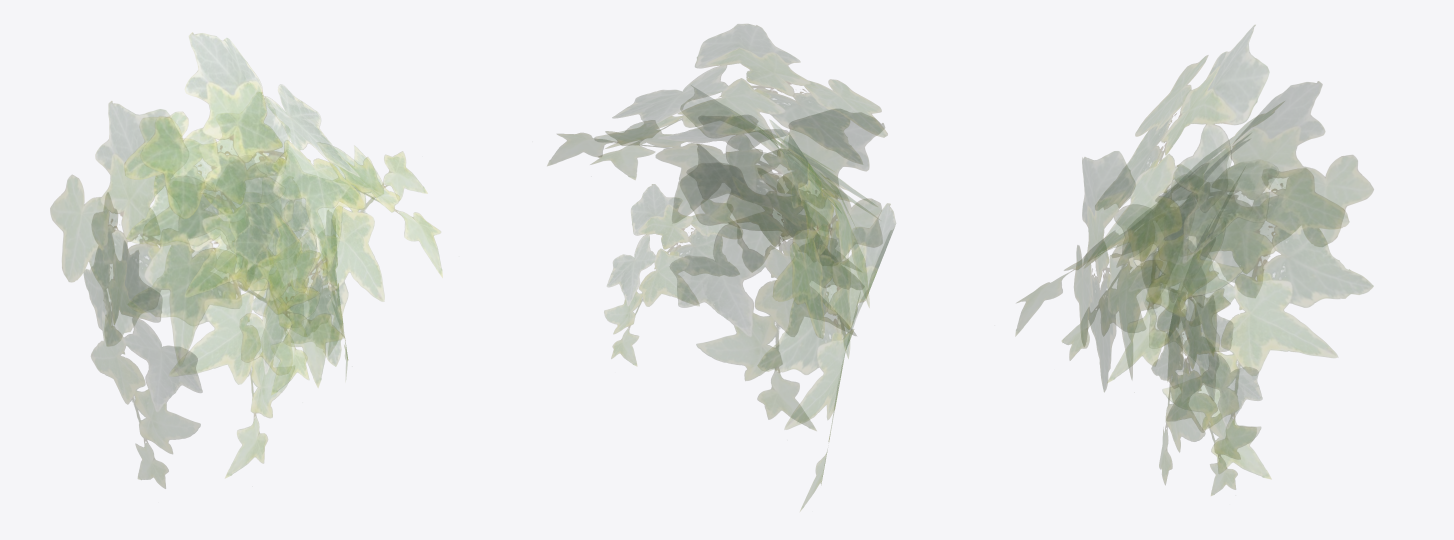
File: vines.fbx
3 views of the same model, side by side, from view 1: azimuth 30°, elevation 25°; view 2: azimuth 150°, elevation 25°; view 3: azimuth 270°, elevation 25° (orthographic). The views are drawn at different scales.
Parts seen in each view (by area): view 1: vine-leaves.005, vine-leaves.004, vine-leaves.002, vine-leaves.001, vine-leaves.006, vine-leaves, vine-leaves.003; view 2: vine-leaves.006, vine-leaves.002, vine-leaves.004, vine-leaves, vine-leaves.003, vine-leaves.001, vine-leaves.005; view 3: vine-leaves.004, vine-leaves, vine-leaves.005, vine-leaves.002, vine-leaves.003, vine-leaves.001, vine-leaves.006.
Part boxes in pixels (left/top/right/bottom): vine-leaves.005: left=50, top=101, right=344, bottom=387; vine-leaves.004: left=140, top=32, right=442, bottom=277; vine-leaves.002: left=231, top=142, right=427, bottom=374; vine-leaves.001: left=124, top=92, right=319, bottom=394; vine-leaves.006: left=128, top=195, right=303, bottom=477; vine-leaves: left=83, top=193, right=202, bottom=488; vine-leaves.003: left=302, top=210, right=348, bottom=376; vine-leaves.006: left=670, top=144, right=864, bottom=430; vine-leaves.002: left=547, top=109, right=884, bottom=271; vine-leaves.004: left=590, top=24, right=887, bottom=179; vine-leaves: left=757, top=203, right=895, bottom=510; vine-leaves.003: left=604, top=184, right=742, bottom=365; vine-leaves.001: left=680, top=85, right=879, bottom=269; vine-leaves.005: left=751, top=120, right=869, bottom=358; vine-leaves.004: left=1084, top=25, right=1278, bottom=382; vine-leaves: left=1145, top=164, right=1373, bottom=478; vine-leaves.005: left=1015, top=81, right=1373, bottom=335; vine-leaves.002: left=1074, top=151, right=1230, bottom=391; vine-leaves.003: left=1151, top=295, right=1262, bottom=495; vine-leaves.001: left=1062, top=101, right=1284, bottom=360; vine-leaves.006: left=1159, top=170, right=1243, bottom=484.
Size of the model in its own units: 260 by 323 by 263.
Materials: 7 (7 with a texture image).
